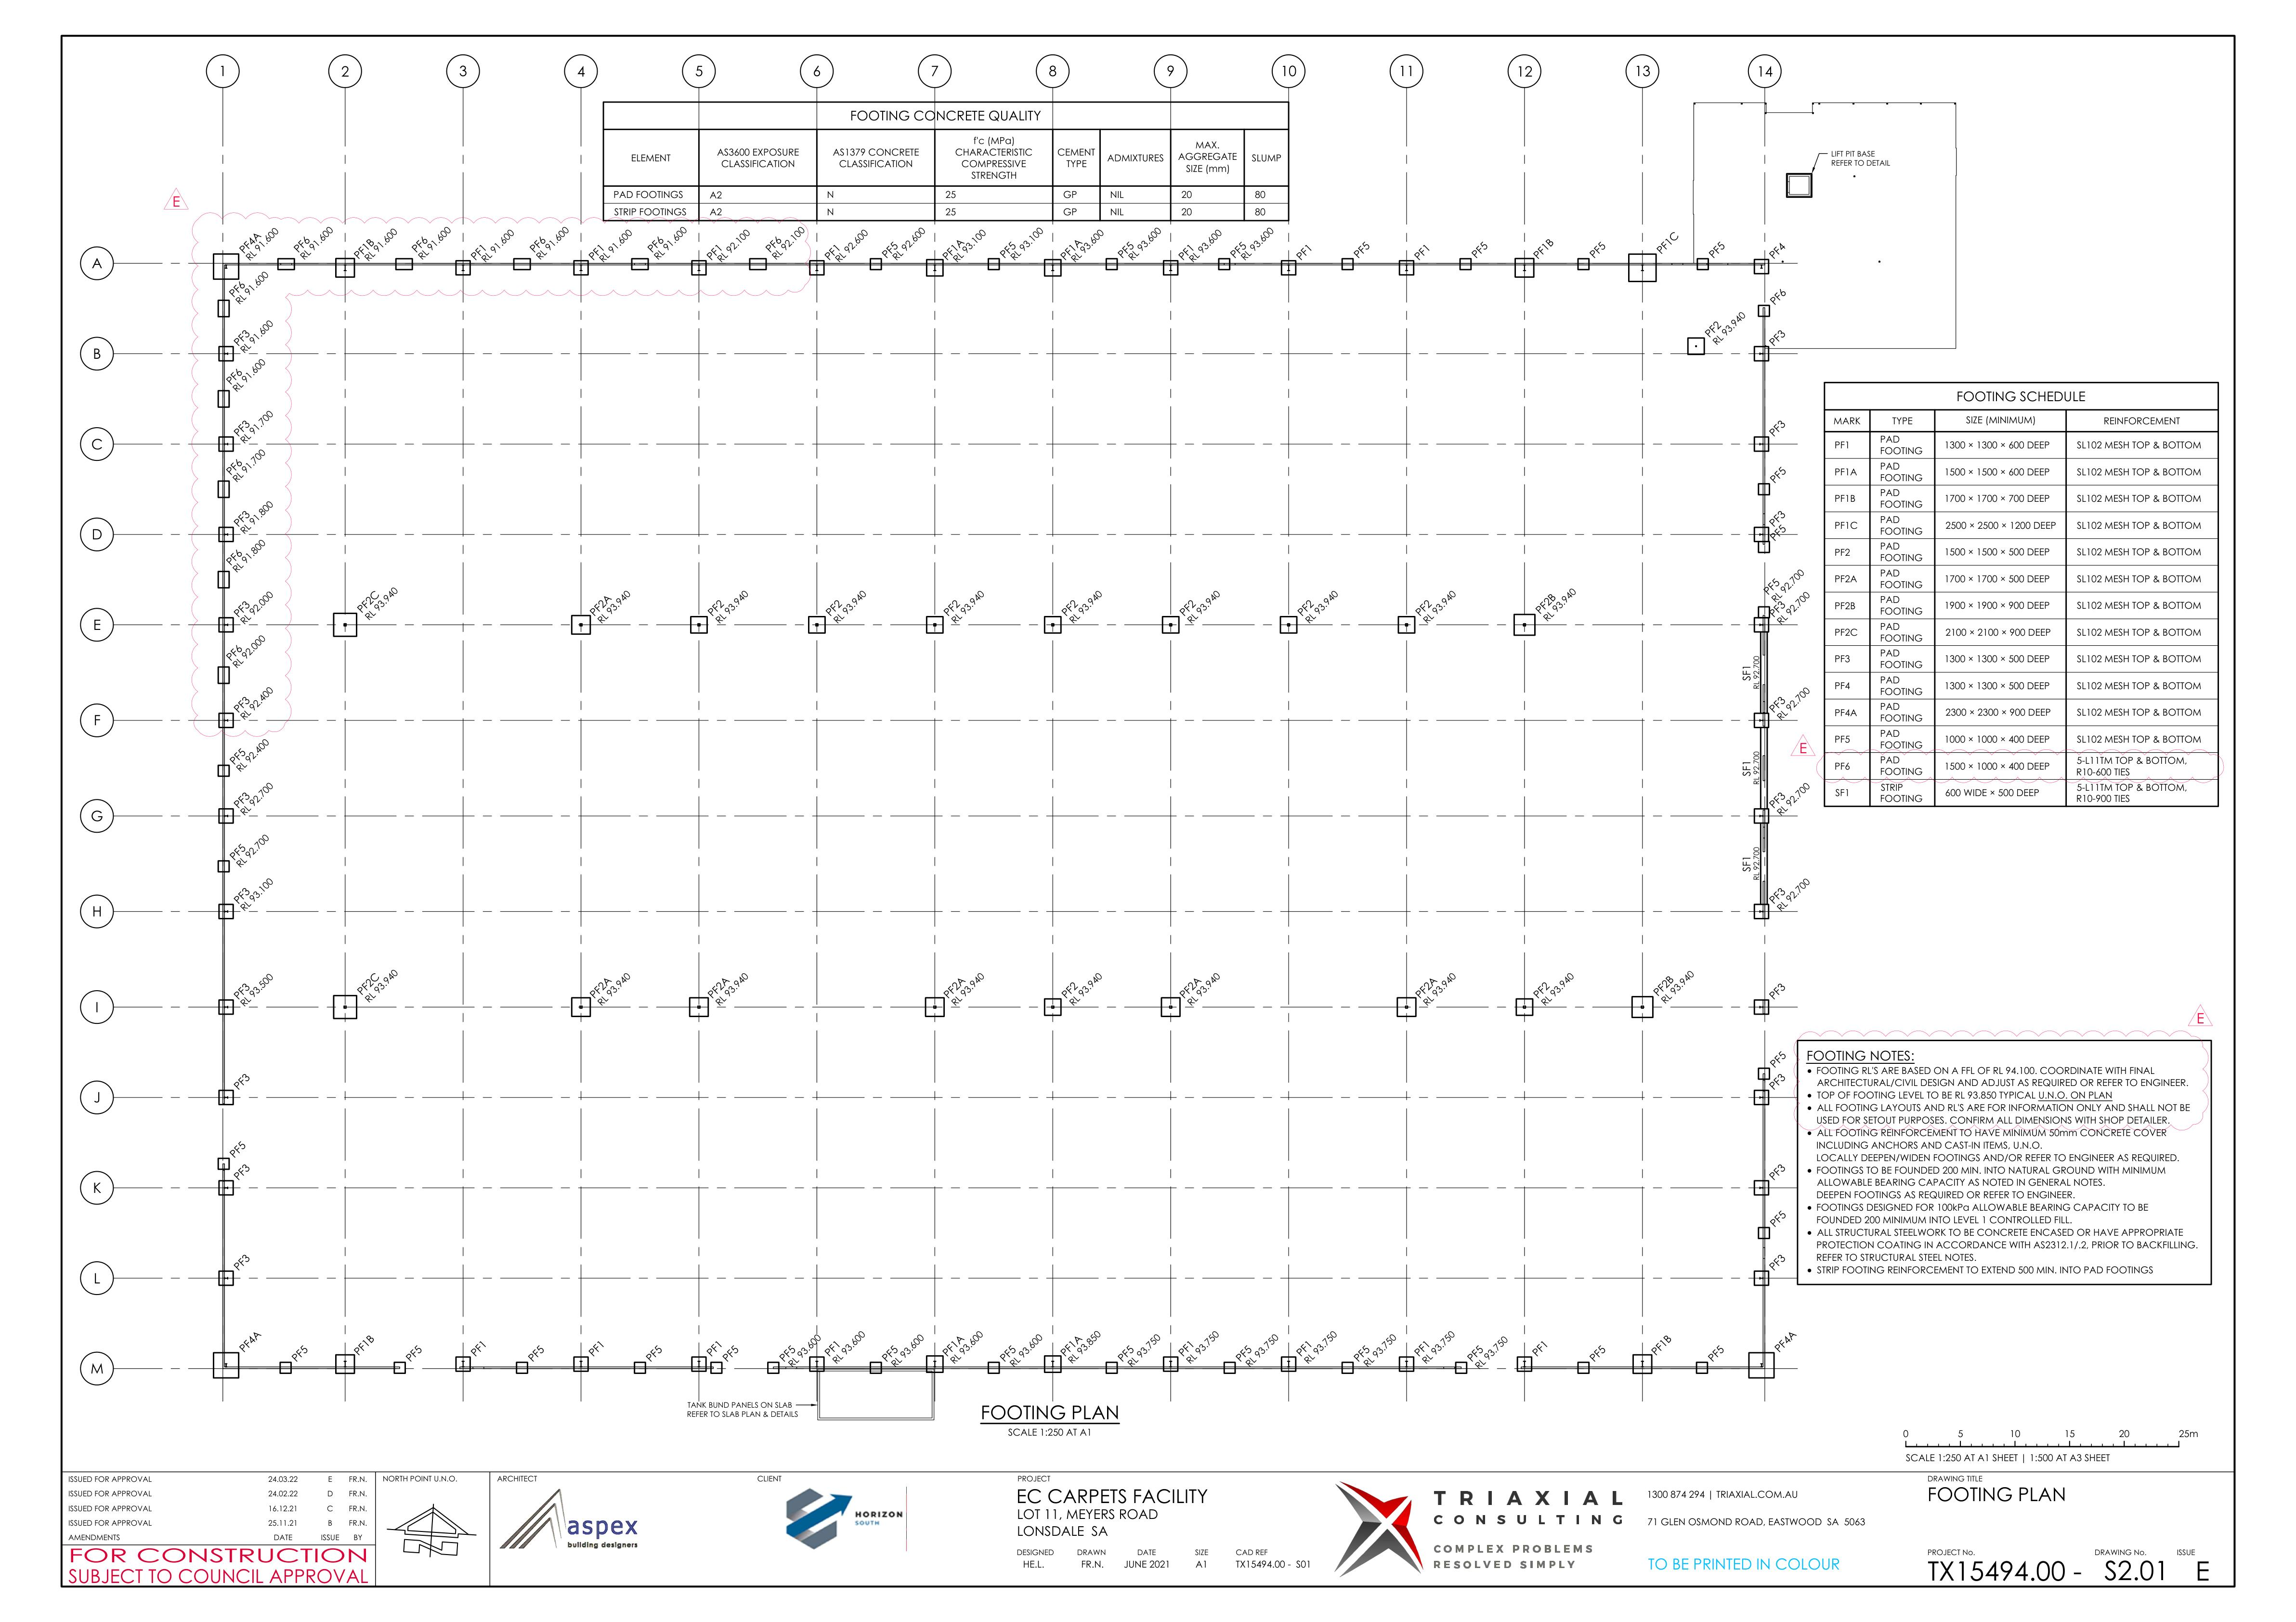PF1: (1292, 239, 1317, 263), (1408, 242, 1432, 263), (586, 1339, 613, 1357), (1173, 242, 1195, 258), (1532, 1338, 1550, 1357), (702, 1338, 721, 1355), (469, 1343, 491, 1357), (704, 240, 721, 258), (465, 244, 484, 260), (1174, 1341, 1194, 1355), (585, 244, 602, 258), (1413, 1341, 1431, 1355), (1294, 1341, 1311, 1355), (825, 244, 839, 258), (823, 1341, 839, 1353)
PF1A: (939, 1336, 964, 1355), (1055, 1334, 1081, 1352), (939, 240, 964, 258), (1060, 239, 1081, 258)
PF1B: (1527, 232, 1559, 260), (351, 1332, 377, 1355), (346, 235, 372, 255), (1648, 1334, 1675, 1353)
PF1C: (1652, 230, 1680, 255)
PF2: (939, 597, 964, 618), (823, 597, 848, 618), (1174, 595, 1195, 616), (1696, 316, 1718, 335), (1413, 593, 1432, 614), (700, 599, 723, 616), (1532, 981, 1550, 997), (1295, 599, 1313, 614), (1060, 600, 1078, 616), (1060, 981, 1076, 997)
PF2A: (1173, 967, 1199, 997), (581, 593, 613, 614), (585, 969, 611, 994), (939, 972, 964, 997), (1410, 972, 1436, 995), (706, 976, 728, 995)
PF2B: (1648, 972, 1675, 997), (1527, 593, 1555, 611)
PF2C: (349, 586, 383, 614), (344, 965, 379, 992)
PF3: (1762, 972, 1789, 1002), (230, 1067, 255, 1092), (1768, 414, 1790, 439), (1768, 1159, 1790, 1181), (1768, 1250, 1789, 1273), (232, 1252, 255, 1271), (1768, 328, 1789, 348), (1764, 788, 1785, 807), (1768, 1076, 1790, 1094), (1764, 693, 1785, 711), (228, 980, 249, 997), (228, 509, 249, 527), (228, 328, 251, 344), (1769, 883, 1789, 901), (232, 416, 249, 435), (235, 1160, 251, 1181), (233, 885, 251, 902), (233, 790, 251, 807), (233, 600, 251, 618), (1769, 509, 1785, 525), (1768, 600, 1785, 614), (233, 697, 248, 711)
PF4: (1762, 237, 1790, 258)
PF4A: (1773, 1329, 1799, 1353), (235, 1329, 263, 1352), (233, 233, 262, 251)
PF5: (642, 1341, 671, 1360), (284, 1343, 311, 1362), (1708, 239, 1731, 260), (1768, 1048, 1790, 1069), (1469, 235, 1489, 260), (1111, 1341, 1136, 1360), (1582, 1346, 1610, 1362), (1590, 240, 1613, 260), (404, 1343, 427, 1362), (1768, 465, 1789, 484), (1761, 572, 1780, 593), (1769, 1208, 1789, 1229), (721, 1345, 743, 1364), (1706, 1345, 1729, 1362), (871, 1346, 899, 1360), (525, 1345, 549, 1360), (1227, 239, 1246, 258), (1353, 240, 1373, 260), (230, 1139, 249, 1159), (225, 744, 246, 762), (1231, 1345, 1253, 1360), (994, 1343, 1016, 1359), (997, 239, 1016, 256), (1769, 528, 1790, 544), (774, 1345, 795, 1360), (878, 239, 897, 255), (1352, 1345, 1371, 1360), (230, 839, 246, 858), (1116, 239, 1132, 256), (1467, 1346, 1483, 1360)
PF6: (1768, 286, 1790, 305), (762, 232, 781, 249), (288, 233, 309, 249), (646, 233, 664, 251), (228, 279, 248, 295), (527, 237, 546, 251), (226, 367, 242, 383), (413, 233, 427, 249), (226, 458, 242, 472), (225, 549, 242, 562), (226, 646, 242, 658)
SF1: (1736, 660, 1752, 686), (1738, 755, 1750, 779), (1741, 851, 1754, 874)
